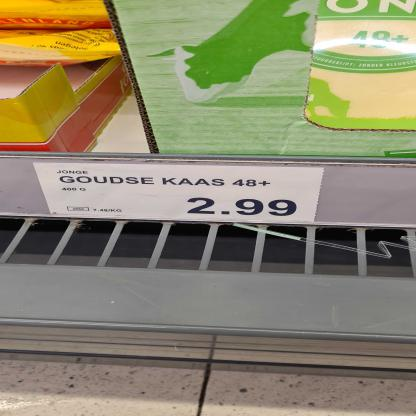prtg: (34, 163, 326, 224)
